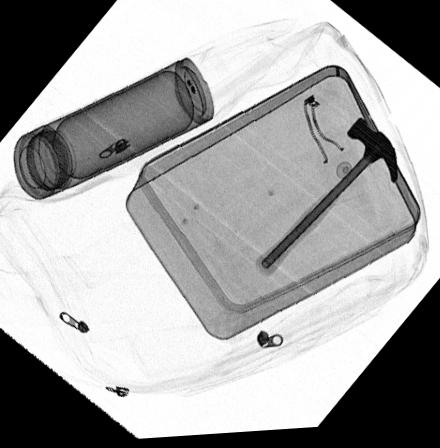Hammer: (254, 122, 398, 283)
